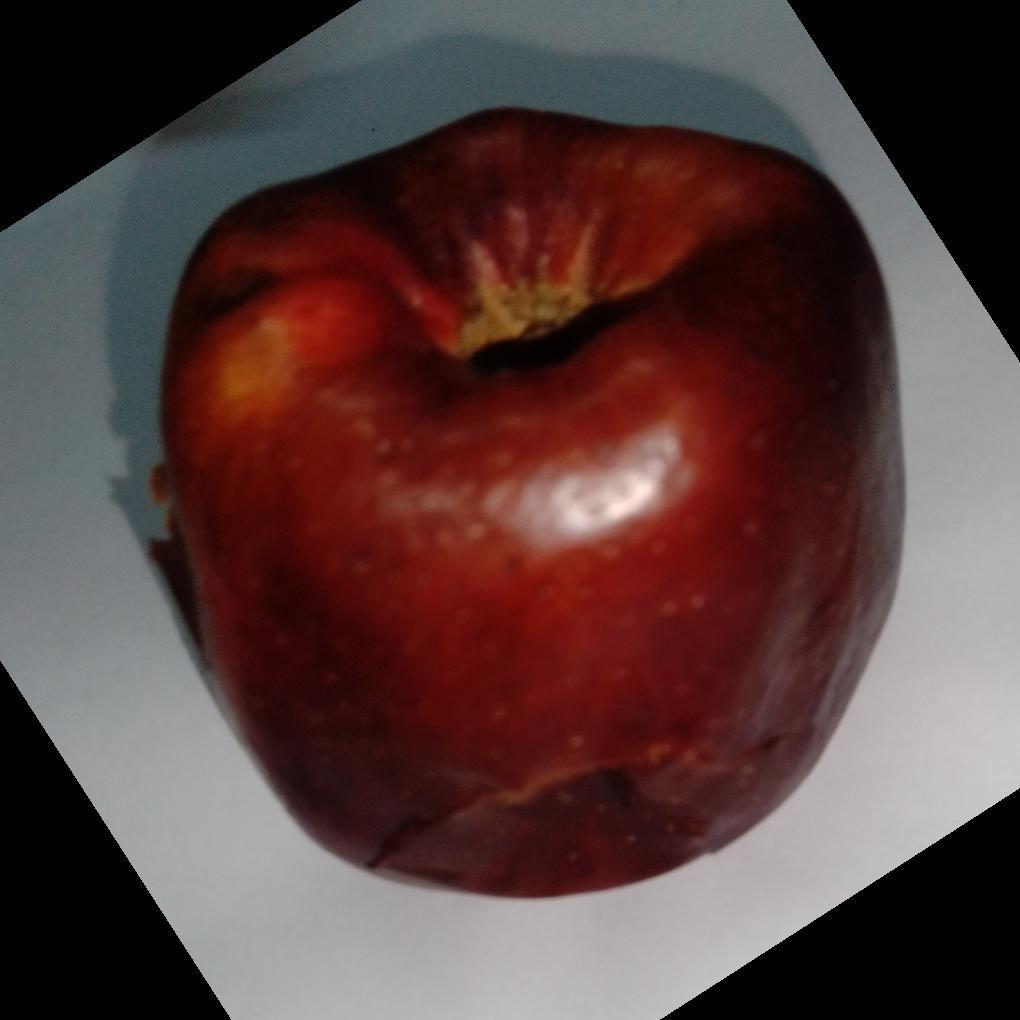FreshOrange: (155, 108, 908, 905)
